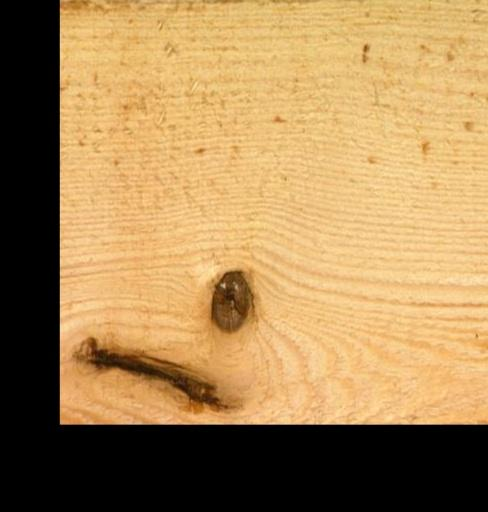dry_knot: (207, 268, 252, 333)
